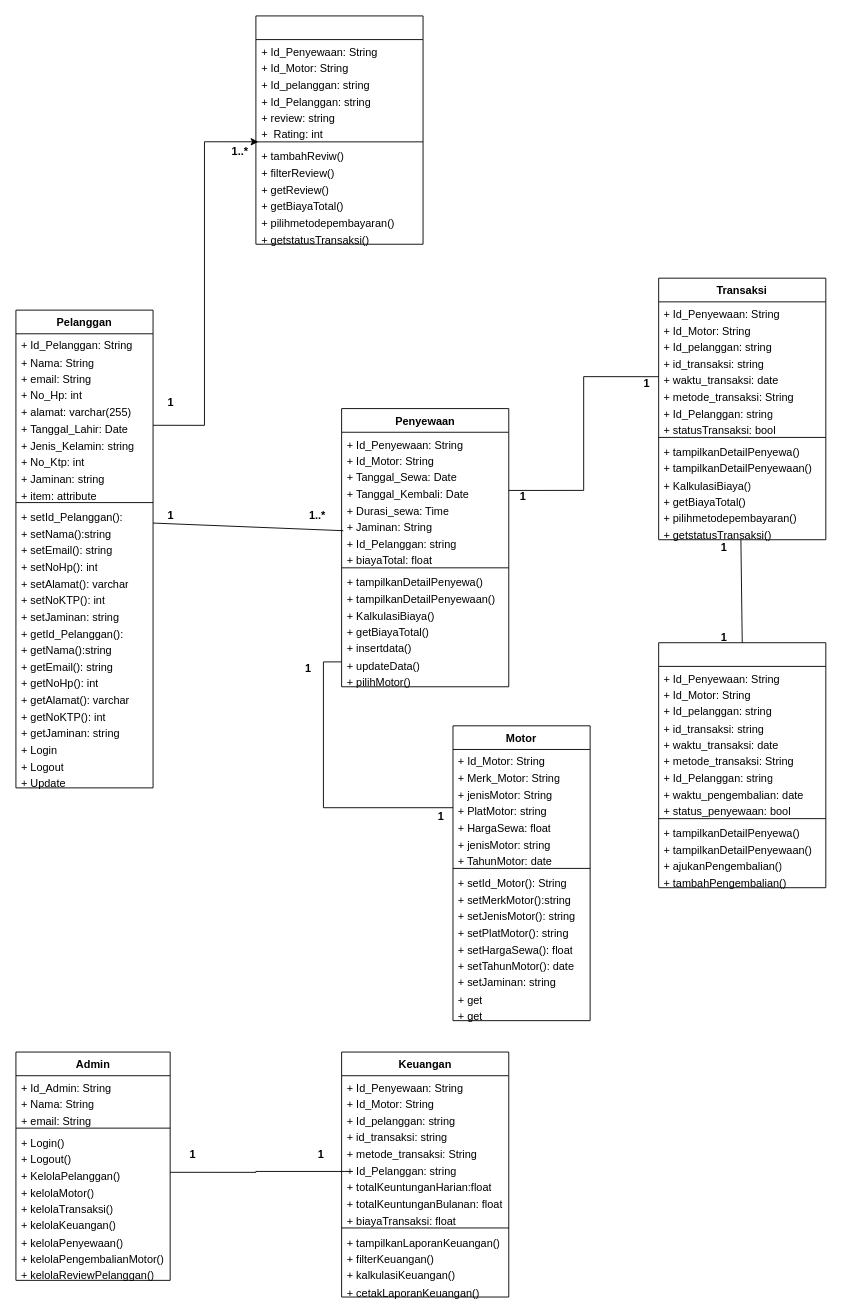
Some shapes in this 842 by 1316 pixel diagram are drawn without their labels. The box of each missing label's shape, as (x1, y1, x2, y2) in pixels:
PengembalianMotor: (658, 642, 826, 888)
ReviewPelanggan: (255, 15, 423, 244)
